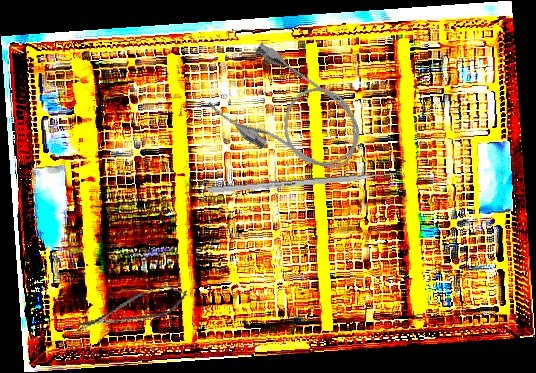Cannula: (203, 35, 378, 194)
Micro Scissor: (68, 280, 192, 340)
Pusher: (208, 169, 411, 194)
